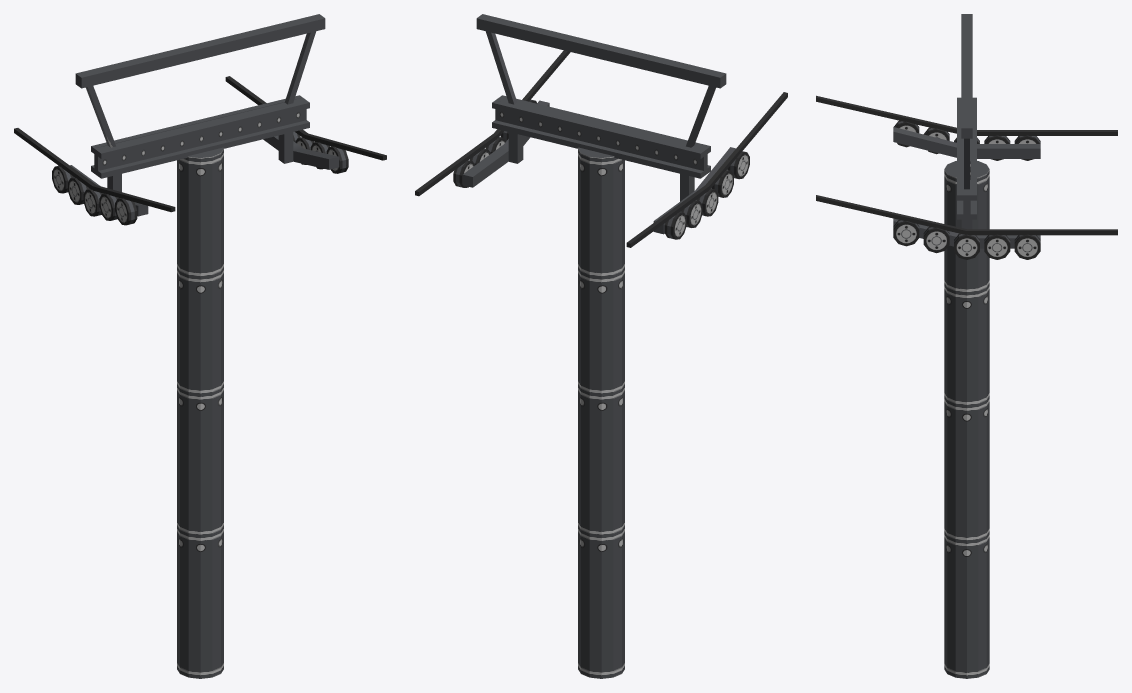
Rendered from Pillar up.obj.
3 views of the same model, side by side, from view 1: azimuth 30°, elevation 25°; view 2: azimuth 150°, elevation 25°; view 3: azimuth 270°, elevation 25° (orthographic). The views are drawn at different scales.
Parts seen in each view (by area): view 1: Pillar_3, Cable12, Cable13; view 2: Pillar_3, Cable12, Cable13; view 3: Pillar_3, Cable13, Cable12, Roller48, Roller46, Roller45, Roller47, Roller49.
Boxes of the visible parts, x1,y1,x2,y2 form: Pillar_3: (70,14,339,678); Cable12: (14,128,175,212); Cable13: (225,76,386,160); Pillar_3: (462,14,735,678); Cable12: (626,92,787,247); Cable13: (415,50,570,196); Pillar_3: (893,14,1040,678); Cable13: (816,195,1117,235); Cable12: (816,95,1117,135); Roller48: (923,226,949,253); Roller46: (984,234,1010,259); Roller45: (1014,234,1040,259); Roller47: (954,233,979,259); Roller49: (893,220,919,246).
Bounding box in the file's own units: 357 × 872 × 399.
1 material, 1 textured.
